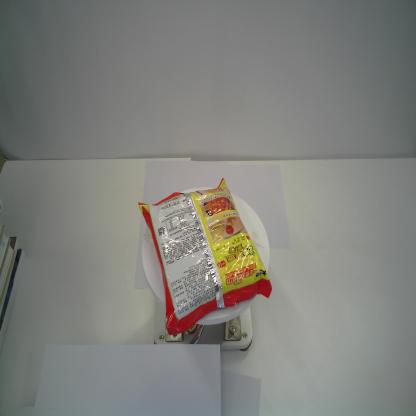Instant Noodles: (139, 177, 273, 335)
